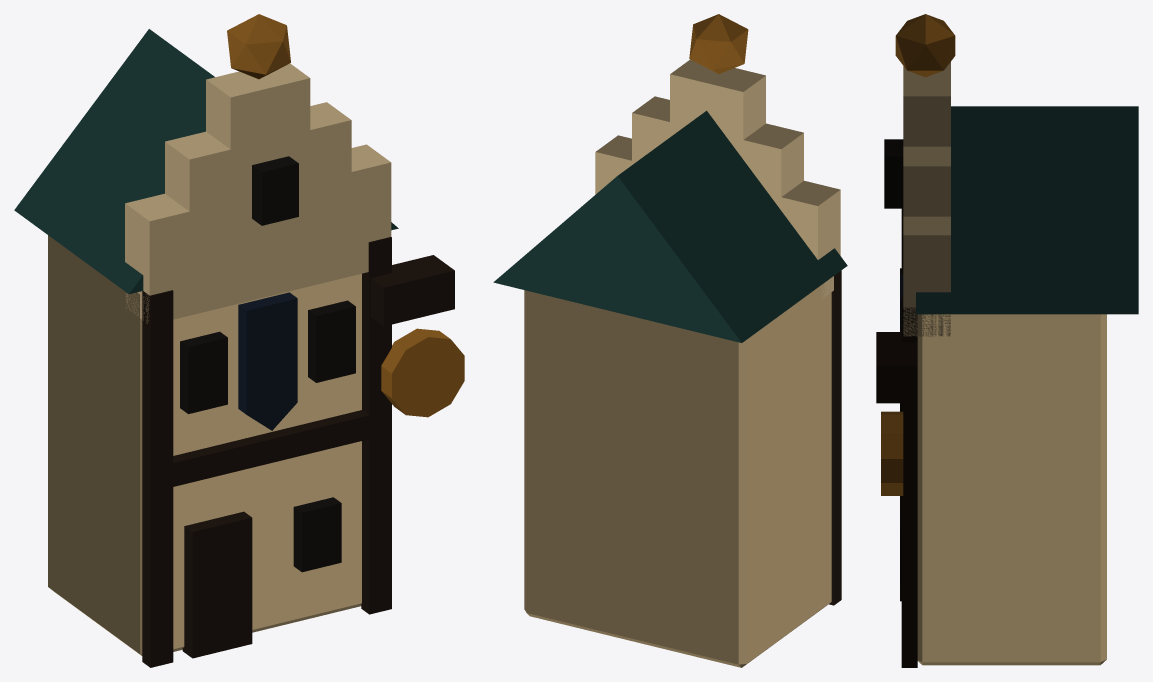
File: guild.obj
The picture shows the model from 3 angles, left to right: view 1: azimuth 30°, elevation 25°; view 2: azimuth 150°, elevation 25°; view 3: azimuth 270°, elevation 25°; orthographic projection. The views are drawn at different scales.
Parts seen in each view (by area): view 1: core_plaster, core_stone, core_wood_dark, core_roof_hall, core_window, core_gold, core_team; view 2: core_plaster, core_roof_hall, core_stone, core_wood_dark, core_gold; view 3: core_plaster, core_roof_hall, core_stone, core_wood_dark, core_gold, core_window.
Boxes of the visible parts, box(x1,y1,x2,y2) form: core_plaster: box(48, 235, 361, 655); core_stone: box(125, 63, 391, 323); core_wood_dark: box(142, 237, 454, 667); core_roof_hall: box(14, 29, 398, 294); core_window: box(180, 156, 355, 572); core_gold: box(227, 14, 464, 417); core_team: box(238, 292, 297, 430); core_plaster: box(524, 282, 831, 667); core_roof_hall: box(493, 110, 847, 342); core_stone: box(595, 59, 840, 299); core_wood_dark: box(829, 270, 841, 605); core_gold: box(689, 14, 748, 73); core_plaster: box(917, 314, 1106, 665); core_roof_hall: box(916, 106, 1138, 314); core_stone: box(903, 62, 950, 336); core_wood_dark: box(876, 208, 917, 667); core_gold: box(881, 14, 955, 495); core_window: box(884, 139, 903, 585).
Size of the model in its own units: 0.2237 by 0.414 by 0.165.
